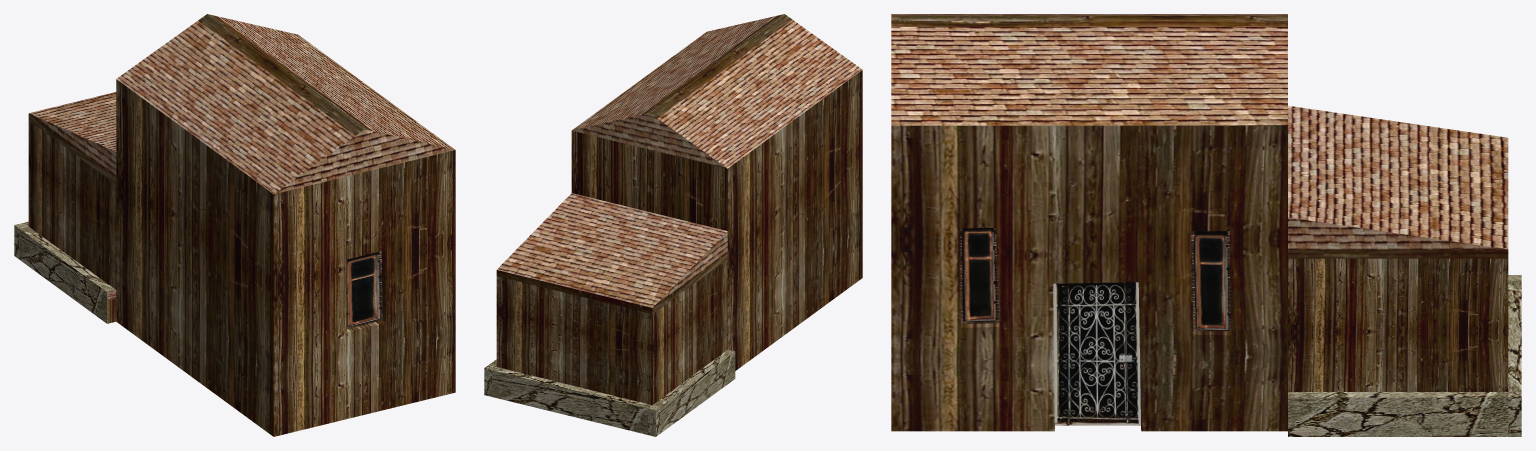
File: collage2.obj
3 renders of one model, left to right at view 1: azimuth 30°, elevation 25°; view 2: azimuth 150°, elevation 25°; view 3: azimuth 270°, elevation 25°, orthographic. The views are drawn at different scales.
Visible parts, largest first — view 1: Cube; view 2: Cube; view 3: Cube.
Part boxes in pixels (left/top/right/bottom): Cube: left=14, top=14, right=455, bottom=436; Cube: left=484, top=14, right=862, bottom=436; Cube: left=891, top=14, right=1521, bottom=436.
Size of the model in its own units: 6.6 by 9 by 14.3.
1 material, 1 textured.
